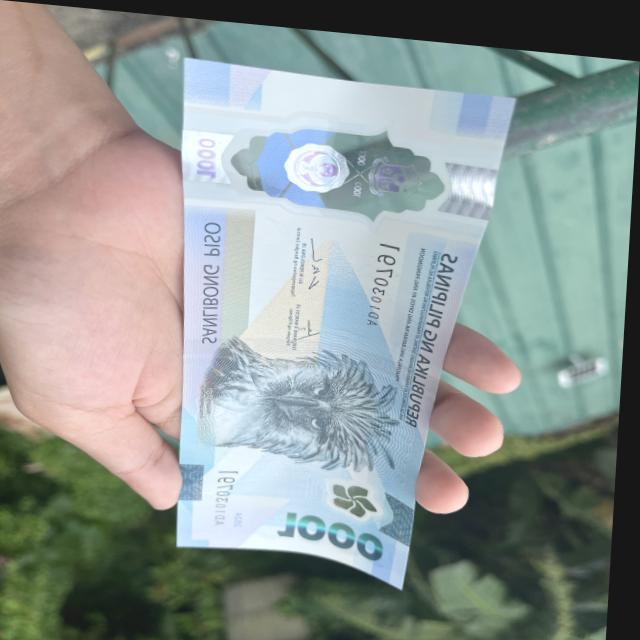clear_window: (181, 107, 500, 231)
eagle: (206, 333, 409, 470)
sampaguita: (308, 470, 389, 514)
serial_number: (364, 234, 404, 322)
